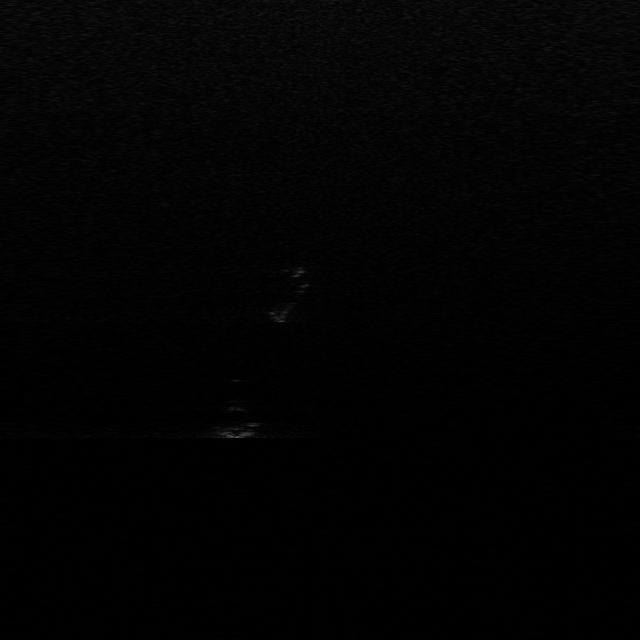ball: (208, 400, 257, 438)
tyre: (272, 268, 308, 323)
